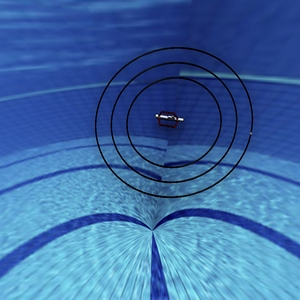circle: (89, 37, 259, 197)
submarine: (143, 100, 188, 136)
